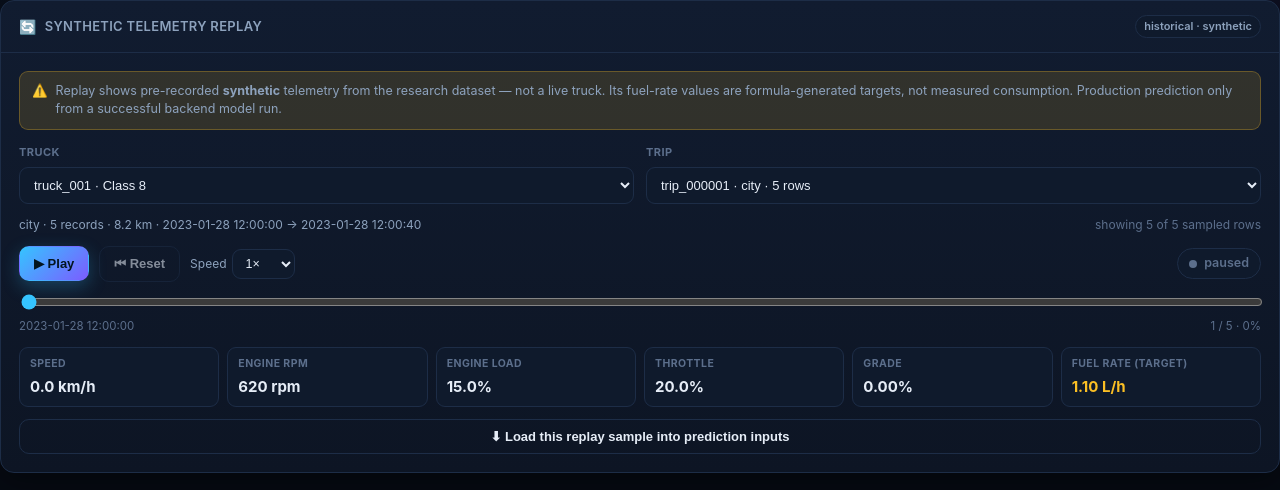
it: ReplayPanel seek and end-of-trip › clamps out-of-range seeks to the valid range
Set the slider named "Replay timeline seek" to "999" at (642,302), box [21, 294, 1263, 310]
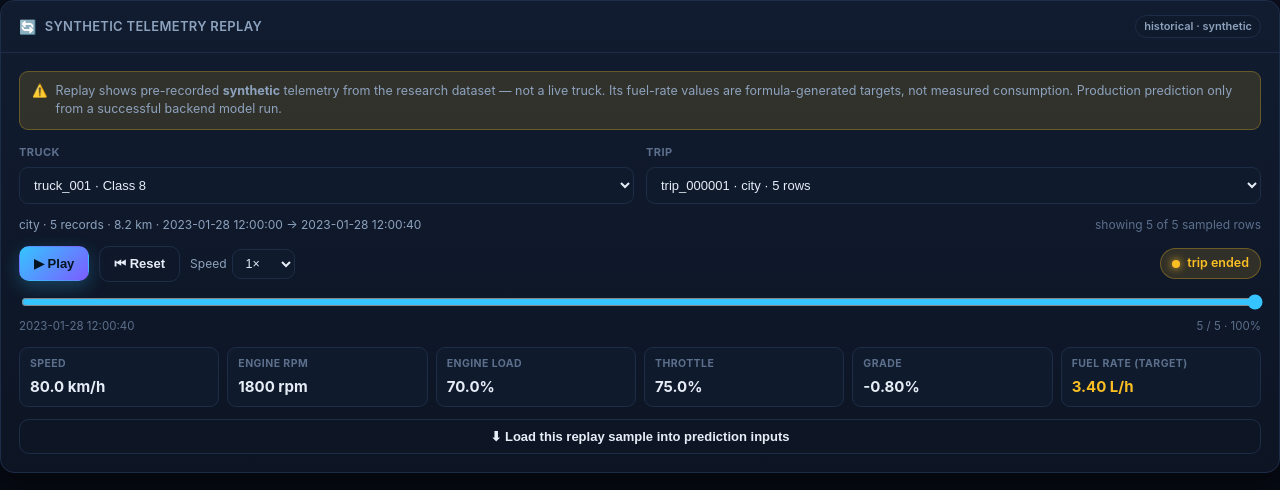
Expected: the text "5 / 5 · 100%" is shown, [1196, 318, 1261, 335]
Set the slider named "Replay timeline seek" to "-5" at (642,302), box [21, 294, 1263, 310]
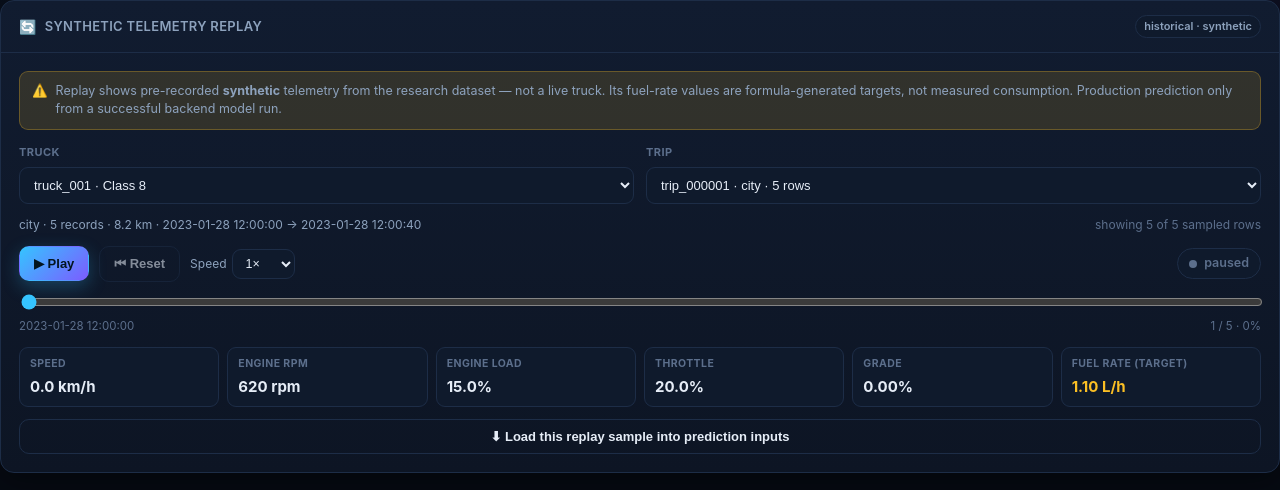
Expected: the text "1 / 5 · 0%" is shown, [1210, 318, 1261, 335]
